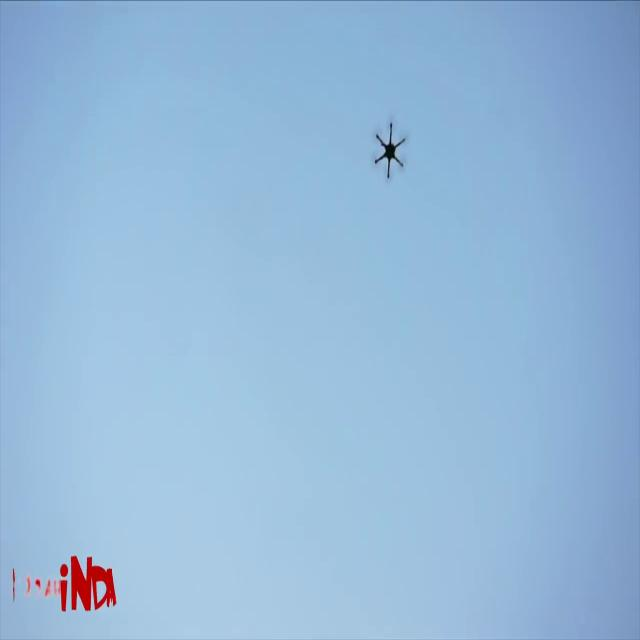drone: (372, 112, 413, 187)
